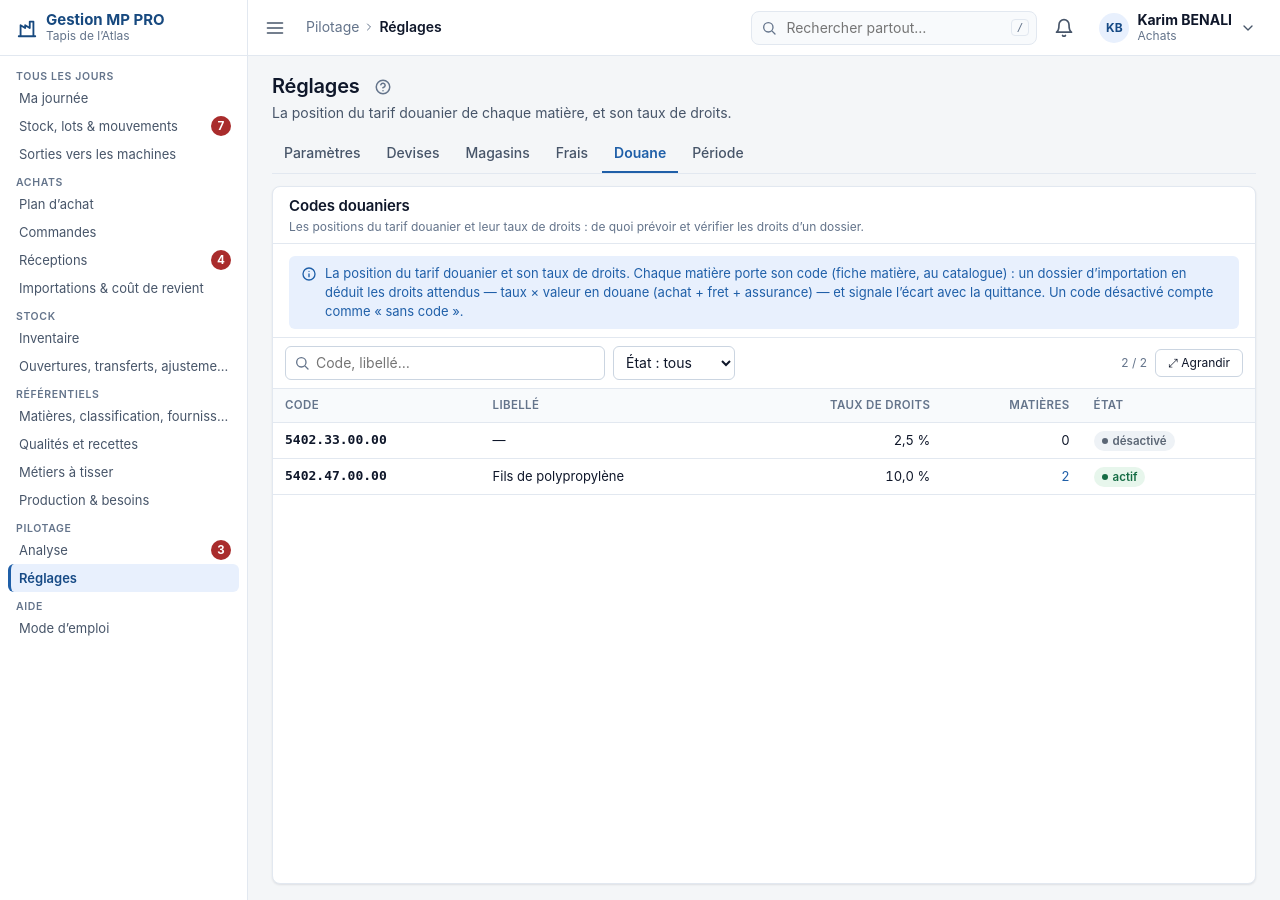
Test: Codes douaniers › les achats lisent : pas de « Nouveau code », fenêtre sans saisie ; volet Historique
(page scrolled)
Expected: the table named "Codes douaniers" is shown, x1=273 y1=389 x2=1255 y2=495
Click the text "Fils de polypropylène": (609, 477) x1=481 y1=459 x2=737 y2=495
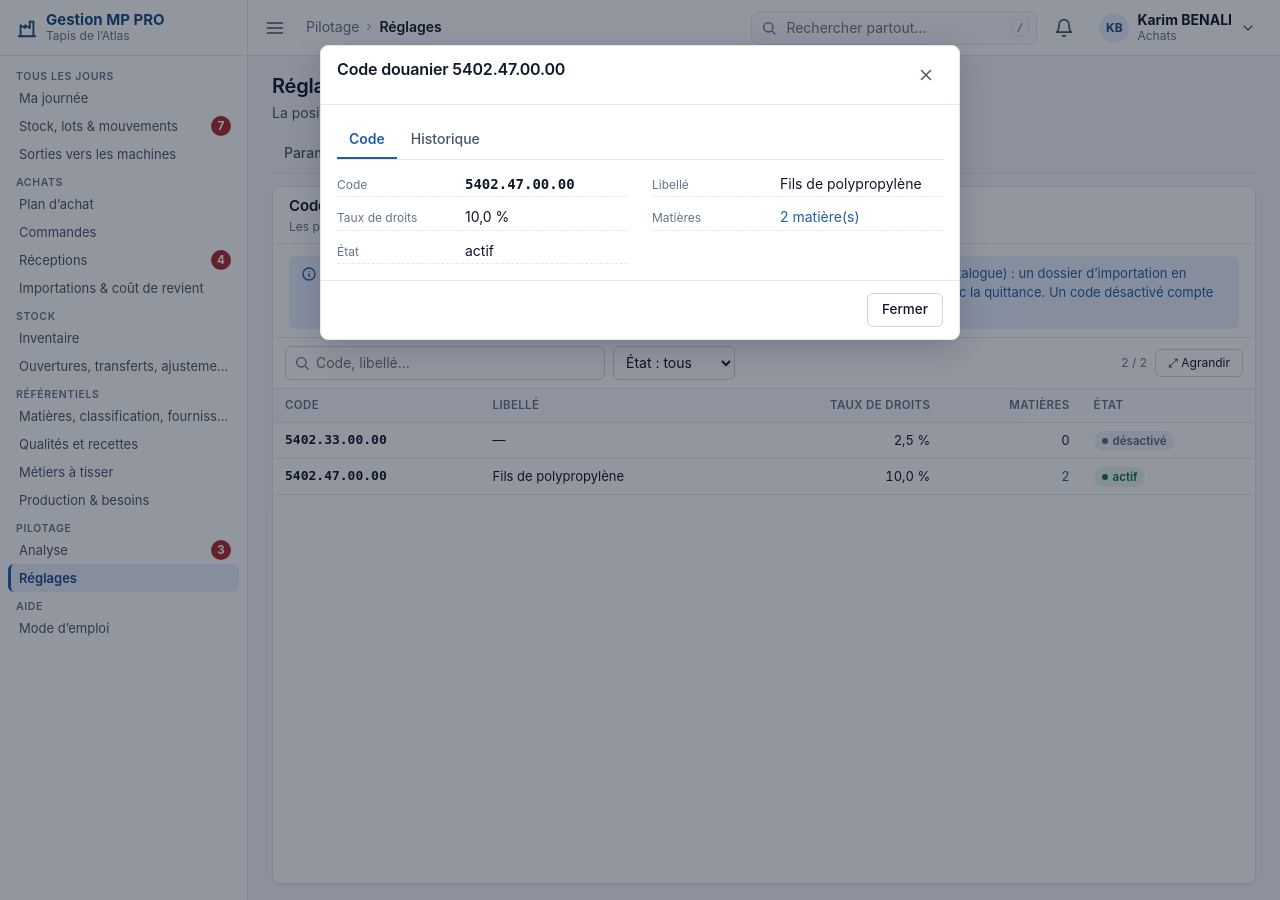
Expected: the text "10,0 %" is shown, x1=465 y1=208 x2=509 y2=225
Click the tab "Historique": (445, 140) x1=399 y1=121 x2=492 y2=159
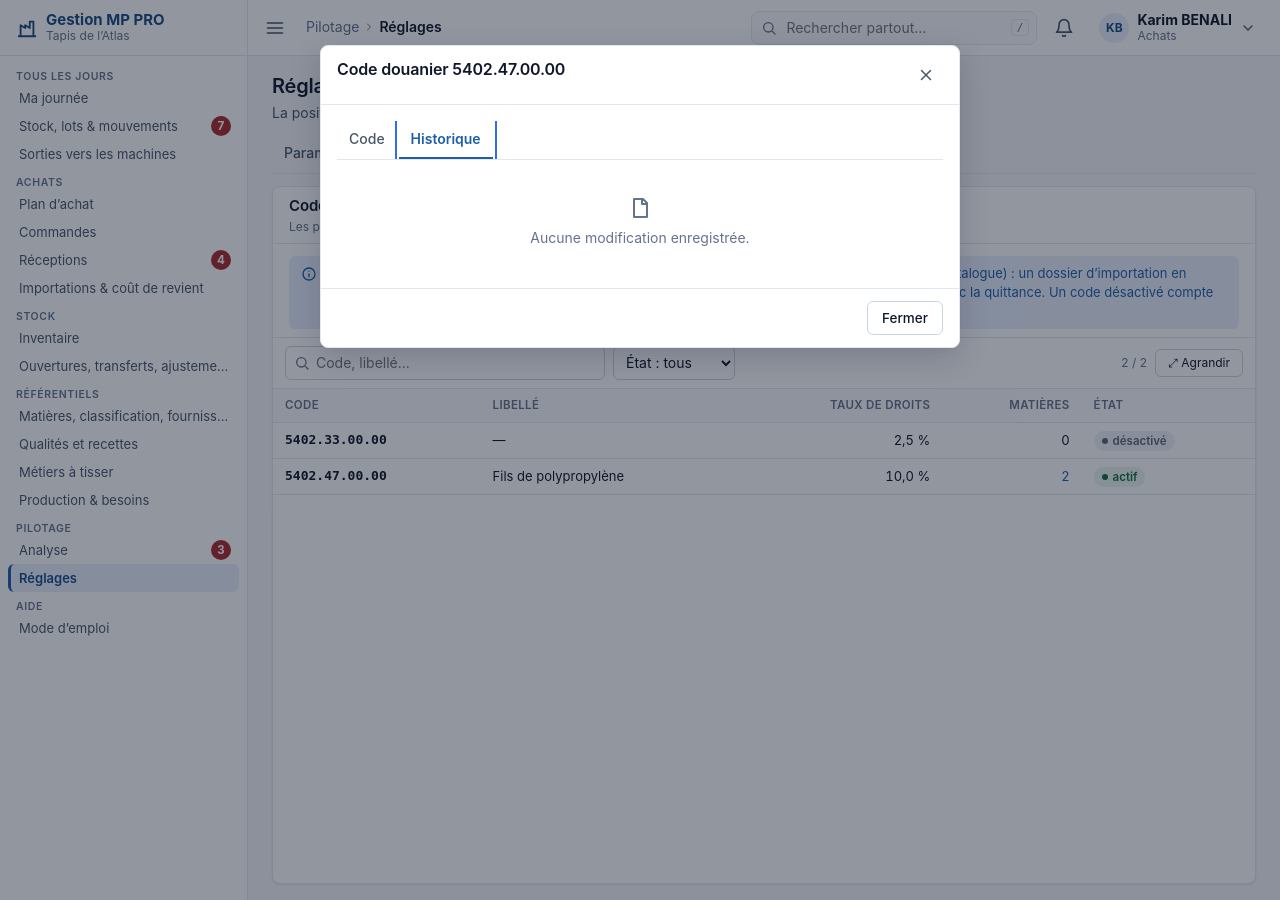
Expected: the text "Aucune modification enregistrée." is shown, x1=530 y1=228 x2=750 y2=248
